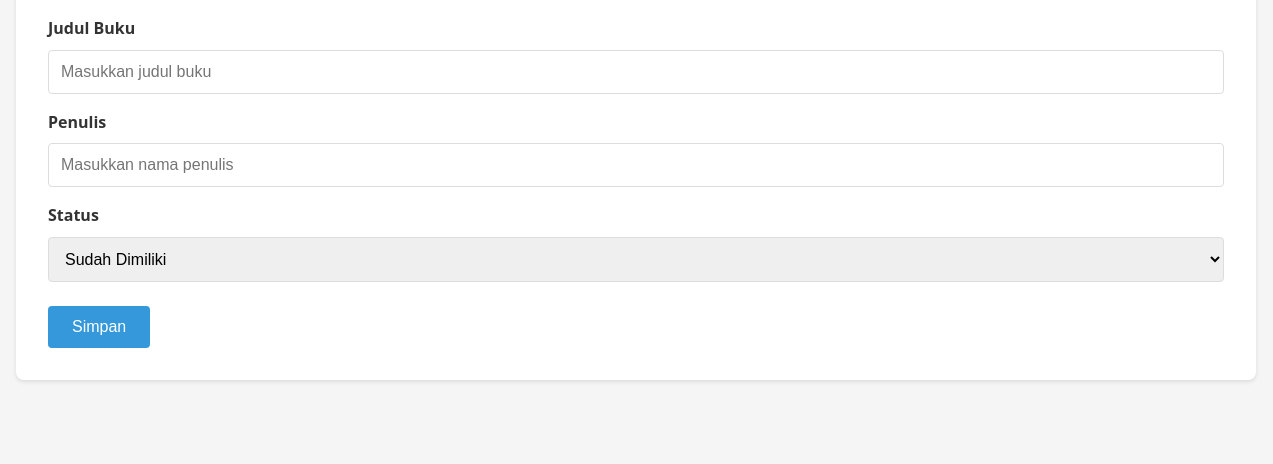
Test: BookForm › shows error when submitting empty form
Click the button "Simpan".
click(99, 327)  # box [48, 306, 150, 348]
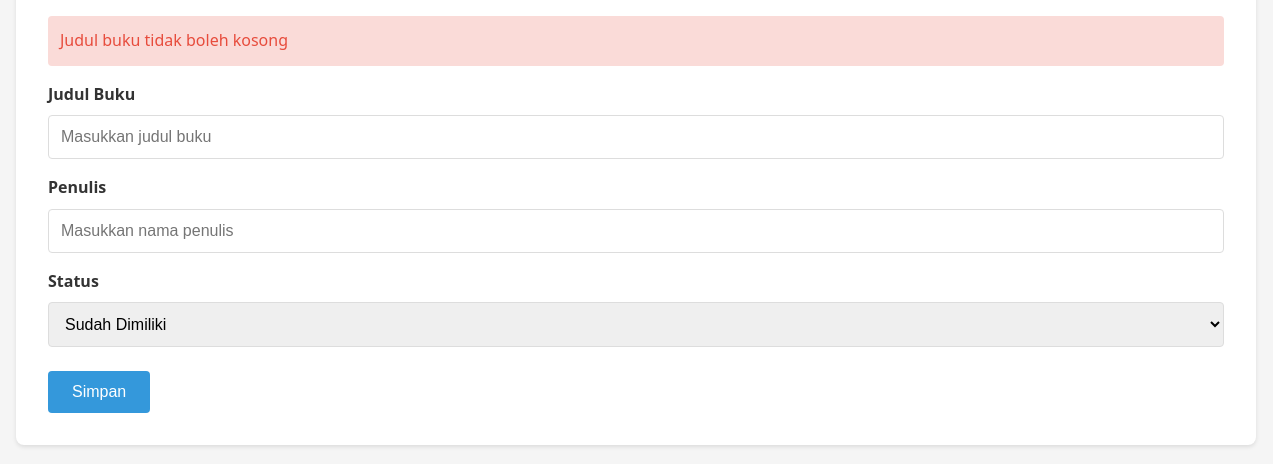
Check: the text "Judul buku tidak boleh kosong" is shown, box [48, 16, 1224, 66]
